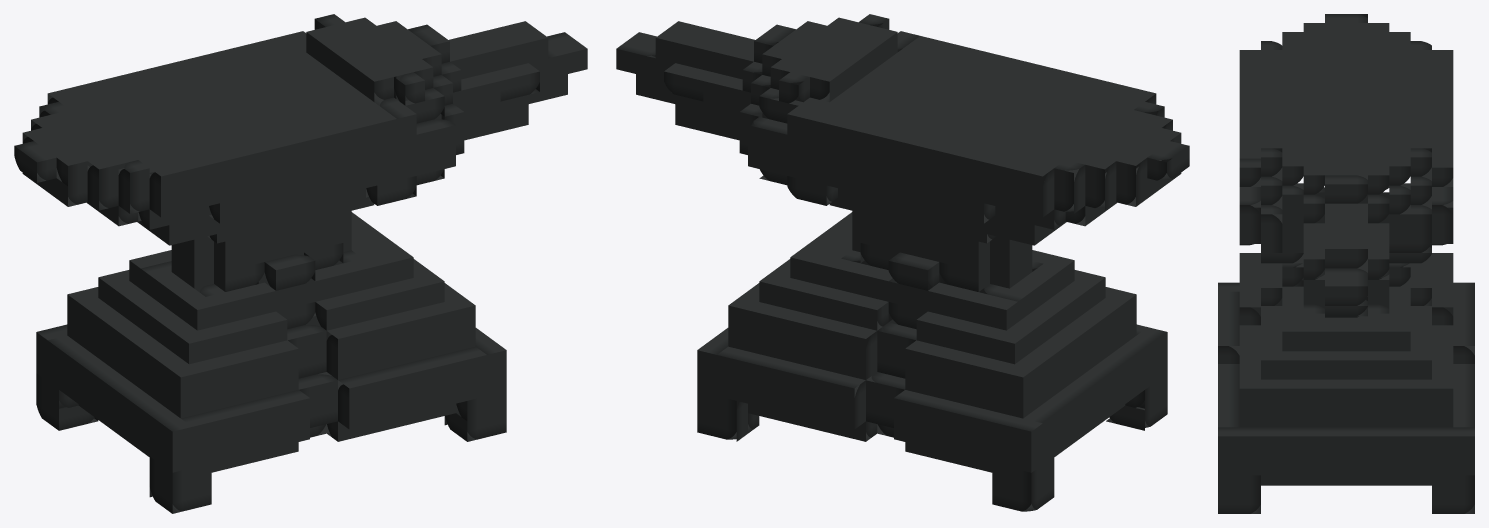
The model's file is Anvil1.obj.
3 views of the same model, side by side, from view 1: azimuth 30°, elevation 25°; view 2: azimuth 150°, elevation 25°; view 3: azimuth 270°, elevation 25° (orthographic). The views are drawn at different scales.
Visible parts, largest first — view 1: Model; view 2: Model; view 3: Model.
Part boxes in pixels (x1=…): Model: x1=14, y1=14, x2=587, y2=513; Model: x1=616, y1=14, x2=1189, y2=511; Model: x1=1218, y1=14, x2=1474, y2=513.
Bounding box in the file's own units: 7 × 4.25 × 3.
Materials: 1 (1 with a texture image).
